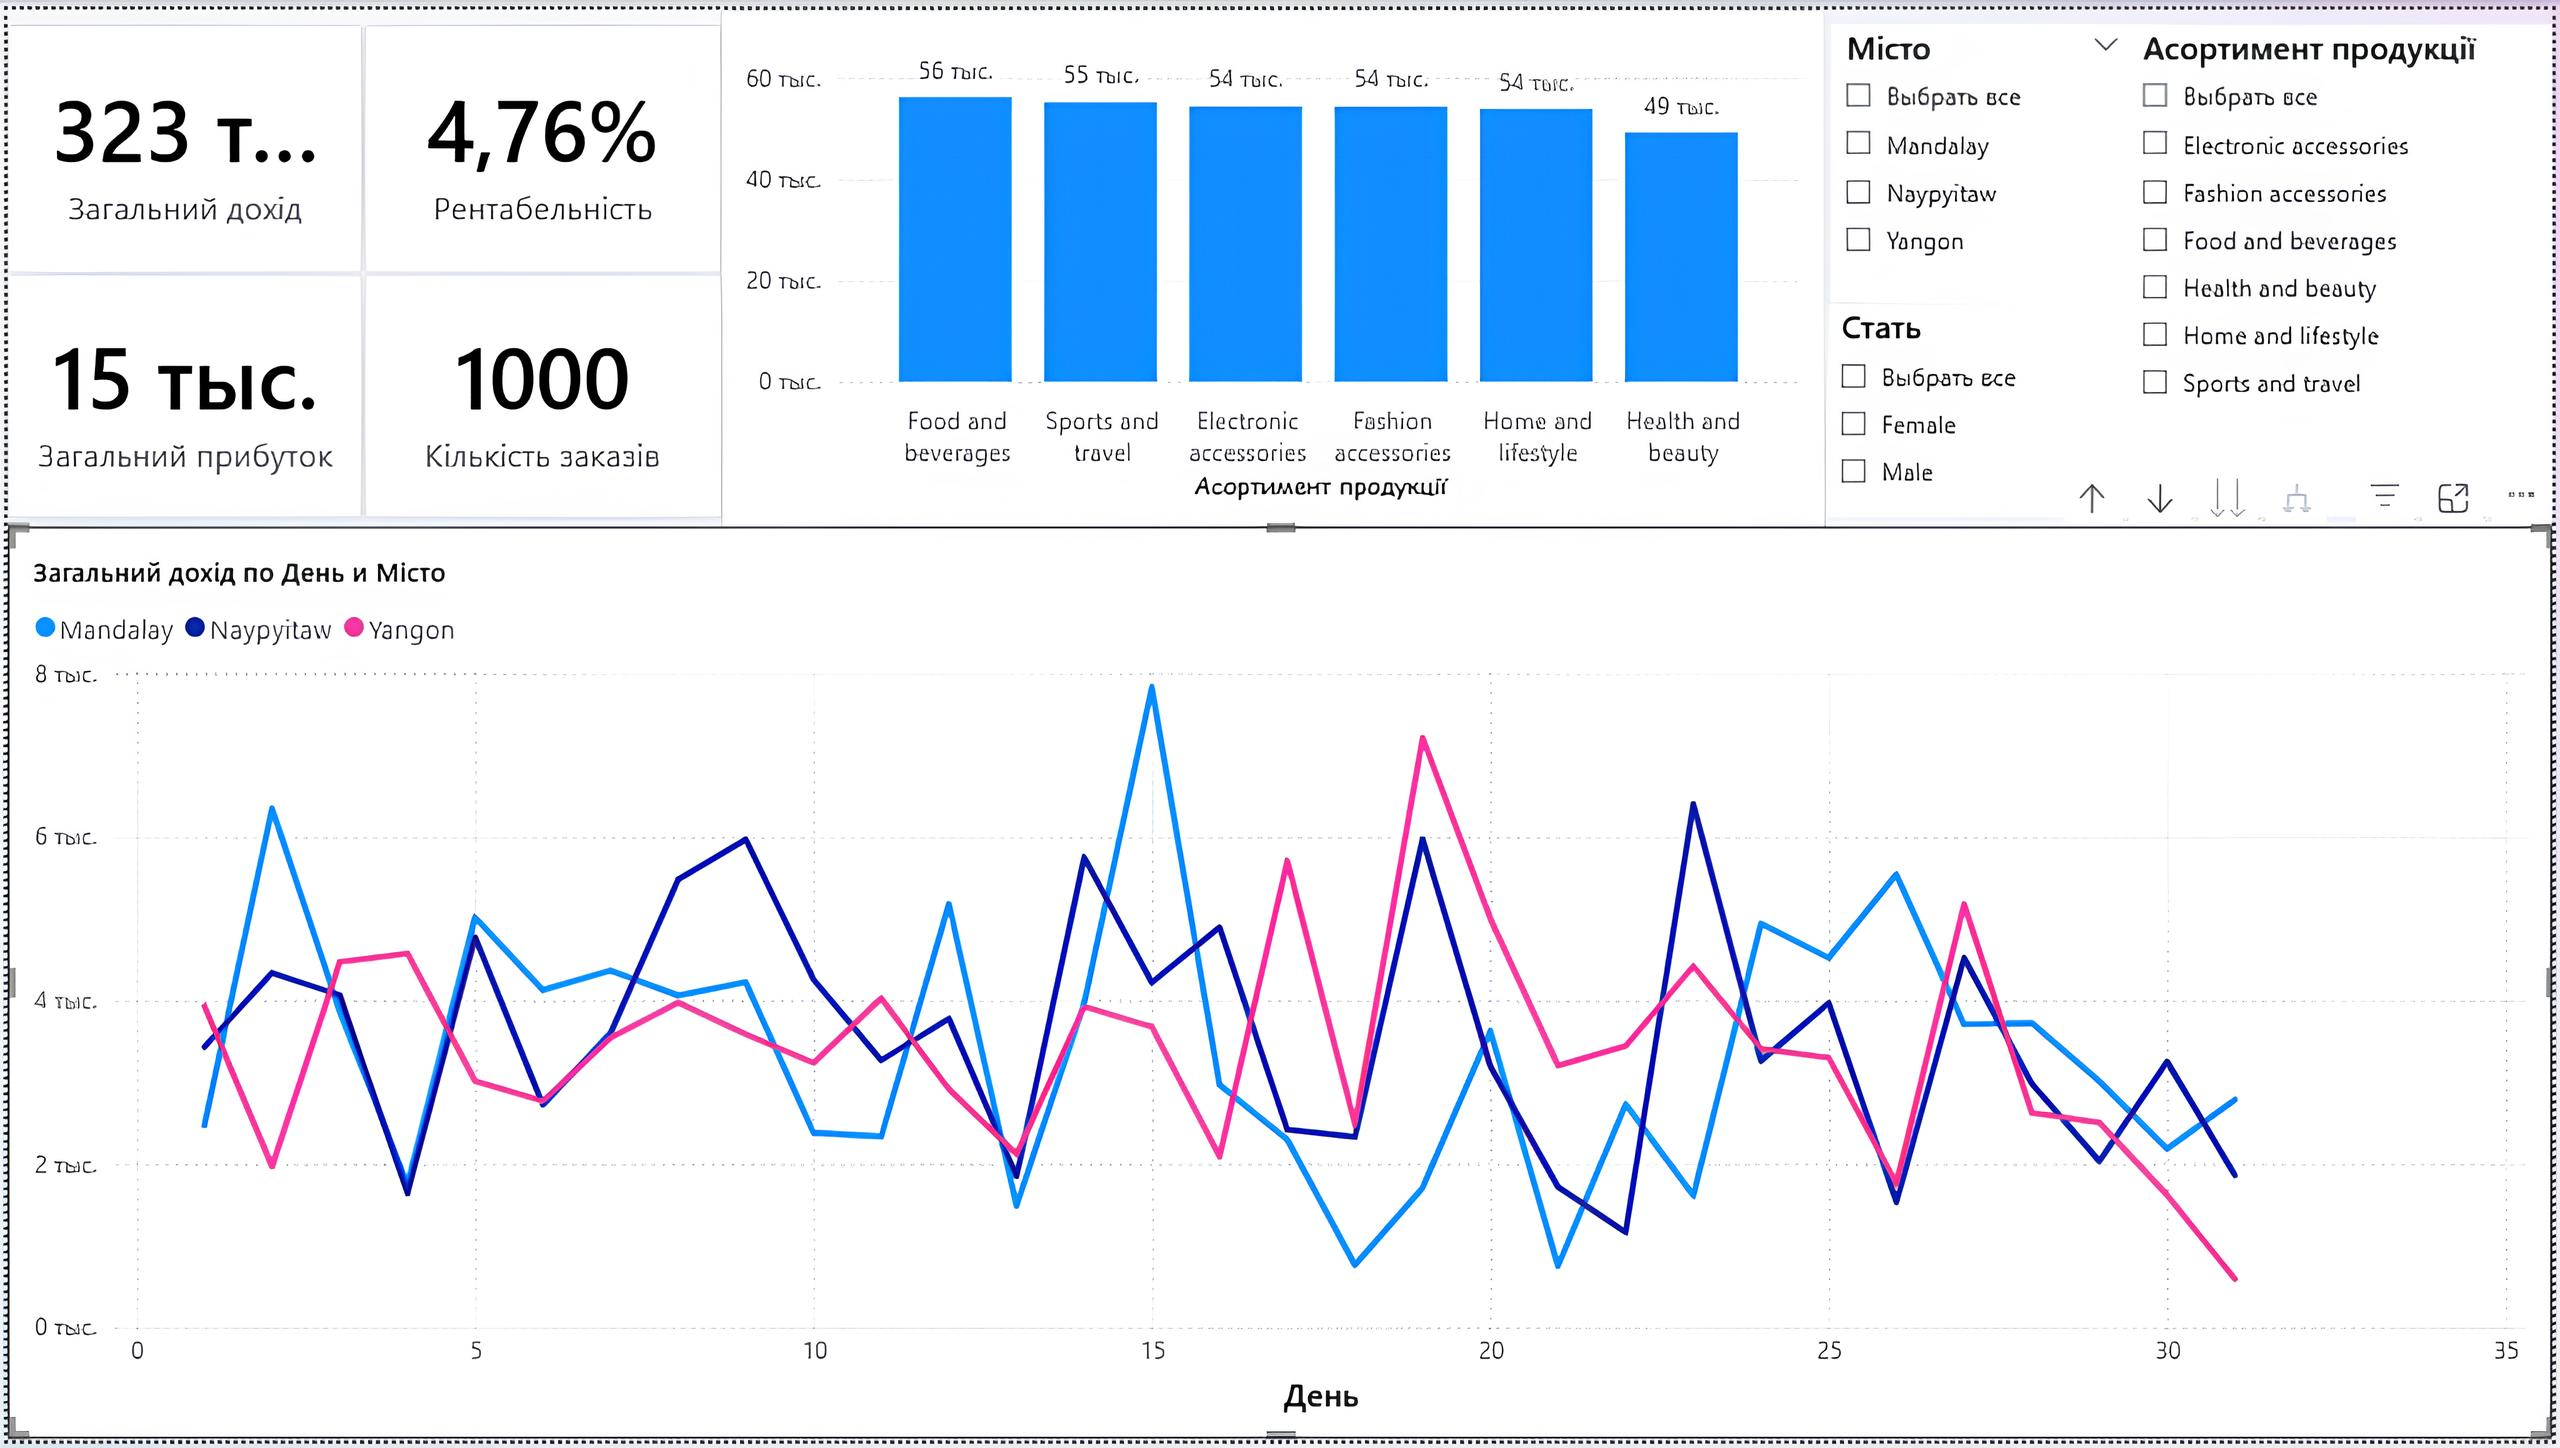

The page's visual inventory and layout, read from the dashboard file:
{"tool":"powerbi","page":{"name":"Страница 1","canvas":[1280,720],"ordinal":0},"visuals":[{"type":"card","fields":{"Values":["SuperMarket Analysis.Total Revenue"]},"box":[0,7.5,178.8,125],"z":0},{"type":"slicer","fields":{"Values":["SuperMarket Analysis.City"]},"box":[916.2,7.5,152.5,140],"z":1000},{"type":"card","fields":{"Values":["SuperMarket Analysis.Total Profit"]},"box":[0,132.5,178.8,122.5],"z":2000},{"type":"card","fields":{"Values":["SuperMarket Analysis.Profit Margin %"]},"box":[178.8,7.5,180,125],"z":4000},{"type":"slicer","fields":{"Values":["SuperMarket Analysis.Gender"]},"box":[913.8,147.5,156.2,107.5],"z":5000},{"type":"columnChart","fields":{"Category":["SuperMarket Analysis.Product line"],"Y":["SuperMarket Analysis.Total Revenue"]},"box":[358.3,0,556,260],"z":6000},{"type":"card","fields":{"Values":["SuperMarket Analysis.Order Count"]},"box":[178.8,132.5,180,122.5],"z":7000},{"type":"slicer","fields":{"Values":["SuperMarket Analysis.Product line"]},"box":[1066.2,7.5,213.8,247.5],"z":8000},{"type":"lineChart","fields":{"Category":["SuperMarket Analysis.Дата.Изменение.Иерархия дат.Год","SuperMarket Analysis.Дата.Изменение.Иерархия дат.Квартал","SuperMarket Analysis.Дата.Изменение.Иерархия дат.Месяц","SuperMarket Analysis.Дата.Изменение.Иерархия дат.День"],"Y":["SuperMarket Analysis.Загальний дохід"],"Series":["SuperMarket Analysis.Місто"]},"box":[0,259.8,1279.5,459.4],"z":9000},{"type":"actionButton","title":"Показати гістограму ","box":[1101,278.4,155.8,29.4],"z":10000},{"type":"actionButton","title":"Показати графік","box":[1112.4,278.4,132.8,29.4],"z":11000}]}

Visuals, with their boxes on the page's 1280x720 design canvas (x1, y1, x2, y2). These are canvas units, not pixel positions in the 2560x1448 screenshot, which may show the page scaled, cropped or inside an application window:
card - SuperMarket Analysis.Total Revenue: crop(0, 8, 179, 132)
slicer - SuperMarket Analysis.City: crop(916, 8, 1069, 148)
card - SuperMarket Analysis.Total Profit: crop(0, 132, 179, 255)
card - SuperMarket Analysis.Profit Margin %: crop(179, 8, 359, 132)
slicer - SuperMarket Analysis.Gender: crop(914, 148, 1070, 255)
columnChart - SuperMarket Analysis.Product line x SuperMarket Analysis.Total Revenue: crop(358, 0, 914, 260)
card - SuperMarket Analysis.Order Count: crop(179, 132, 359, 255)
slicer - SuperMarket Analysis.Product line: crop(1066, 8, 1280, 255)
lineChart - SuperMarket Analysis.Дата.Изменение.Иерархия дат.Год x SuperMarket Analysis.Дата.Изменение.Иерархия дат.Квартал: crop(0, 260, 1280, 719)
"Показати гістограму " actionButton: crop(1101, 278, 1257, 308)
"Показати графік" actionButton: crop(1112, 278, 1245, 308)
